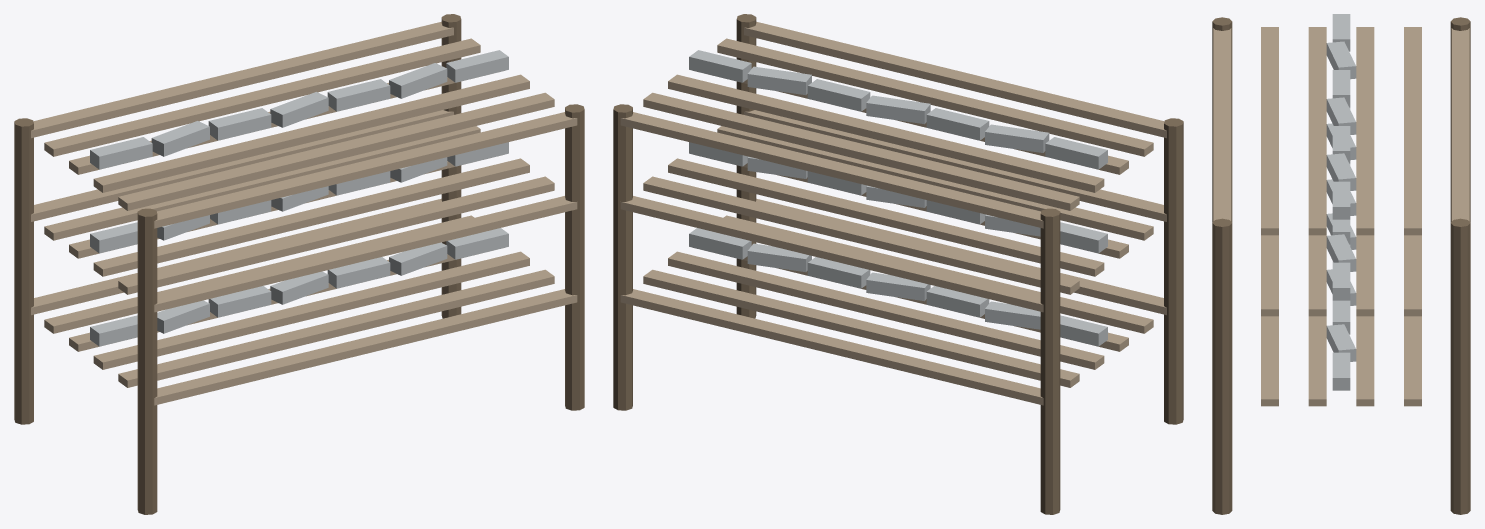
File: smoking_rack.glb
3 views of the same model, side by side, from view 1: azimuth 30°, elevation 25°; view 2: azimuth 150°, elevation 25°; view 3: azimuth 270°, elevation 25° (orthographic). The views are drawn at different scales.
Visible parts, largest first — view 1: MK_smoking_rack; view 2: MK_smoking_rack; view 3: MK_smoking_rack.
Part boxes in pixels (x1=…): MK_smoking_rack: x1=14, y1=14, x2=584, y2=514; MK_smoking_rack: x1=613, y1=14, x2=1183, y2=514; MK_smoking_rack: x1=1212, y1=14, x2=1470, y2=514.
Size of the model in its own units: 2.5 by 1.66 by 1.3.
